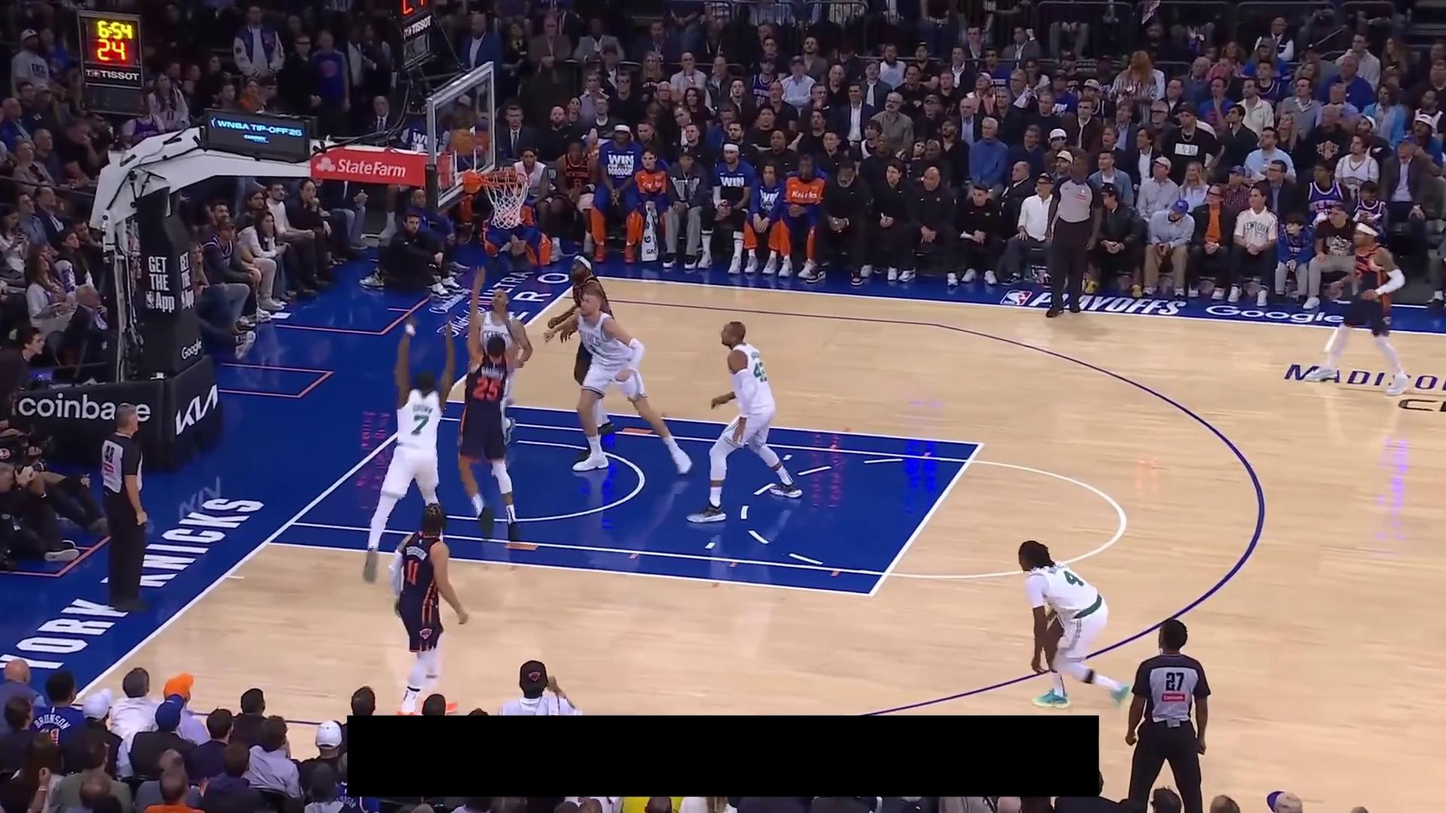ball: (450, 128, 477, 153)
number: (472, 375, 502, 400), (405, 559, 420, 586), (411, 414, 429, 436), (752, 361, 768, 382), (1062, 570, 1081, 587), (1354, 268, 1366, 285)
player: (542, 292, 692, 475), (362, 310, 457, 583), (685, 319, 804, 525), (1303, 217, 1413, 398), (1017, 539, 1132, 711), (454, 263, 522, 542), (386, 501, 469, 717), (547, 250, 616, 460), (467, 287, 534, 445)
referee: (1124, 618, 1213, 813), (100, 403, 154, 612), (1043, 152, 1105, 318)
rim: (479, 169, 528, 187)
